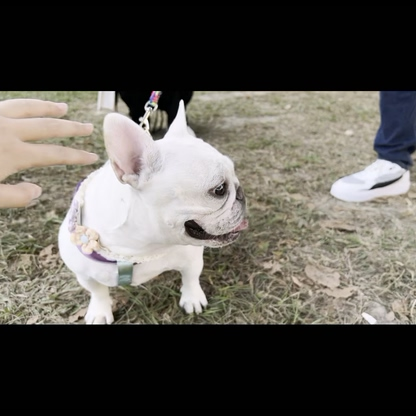bulldog: (55, 98, 249, 322)
